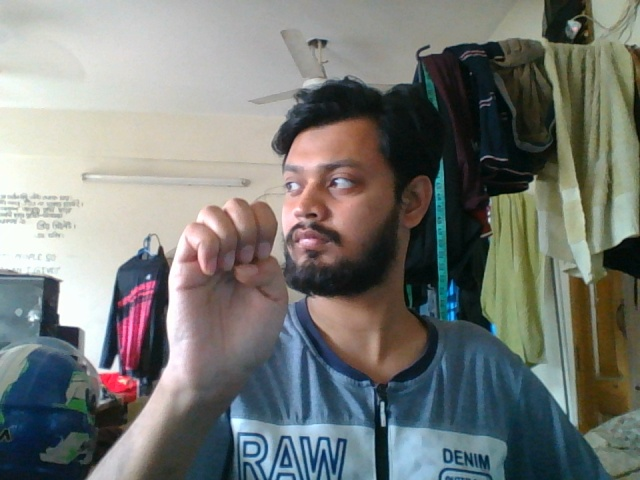sha: (154, 192, 294, 444)
